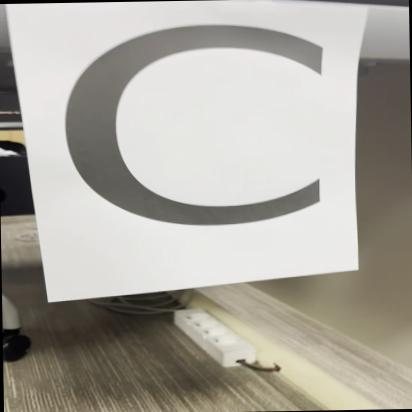seat: (22, 2, 371, 265)
